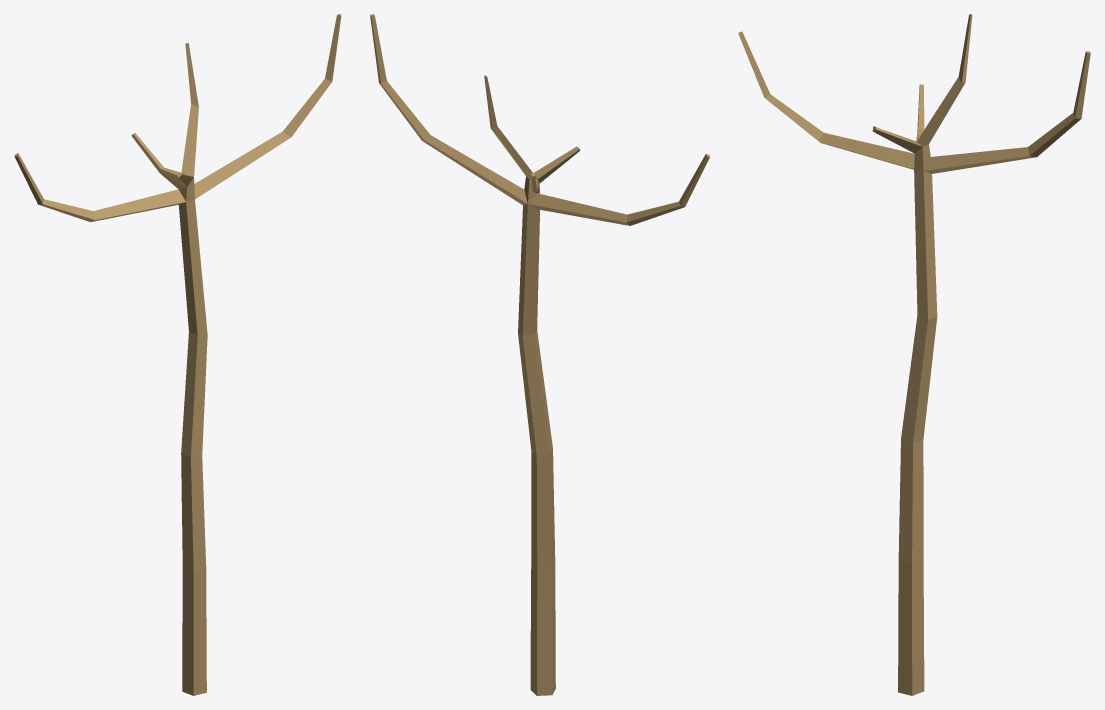
File: Acacia_Tree_NoLeaves_m_03.fbx
The picture shows the model from 3 angles, left to right: view 1: azimuth 30°, elevation 25°; view 2: azimuth 150°, elevation 25°; view 3: azimuth 330°, elevation 25°; orthographic projection. The views are drawn at different scales.
Visible parts, largest first — view 1: Acacia_Tree_NoLeaves_m_03; view 2: Acacia_Tree_NoLeaves_m_03; view 3: Acacia_Tree_NoLeaves_m_03.
Part boxes in pixels (bbox=[...]): Acacia_Tree_NoLeaves_m_03: bbox=[14, 14, 341, 695]; Acacia_Tree_NoLeaves_m_03: bbox=[370, 14, 709, 695]; Acacia_Tree_NoLeaves_m_03: bbox=[738, 14, 1090, 695].
Size of the model in its own units: 415 by 758 by 102.
